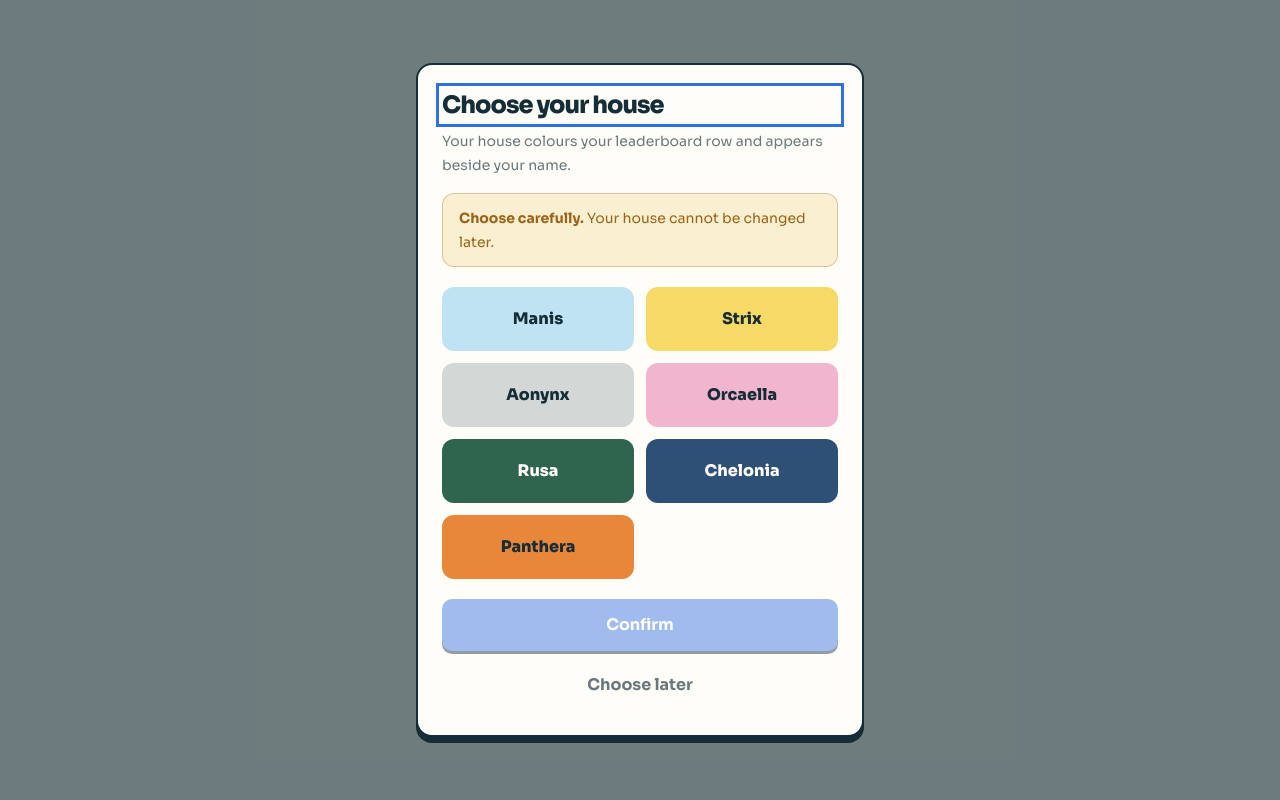
Test: house prompt modal › announces failures and race outcomes through a live region
Click the button "Rusa": click(538, 471) left=442, top=439, right=634, bottom=503
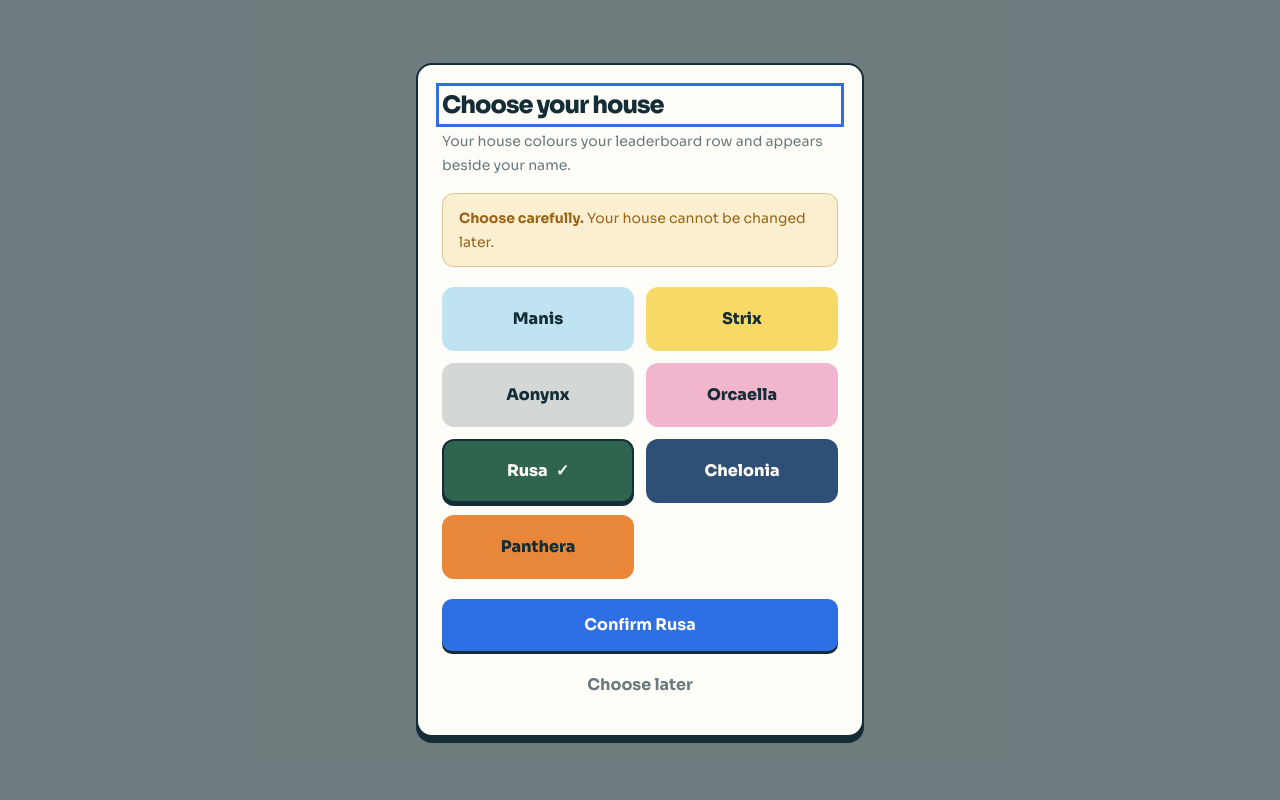
Click the button with test id "house-confirm": click(640, 625) left=442, top=599, right=838, bottom=651
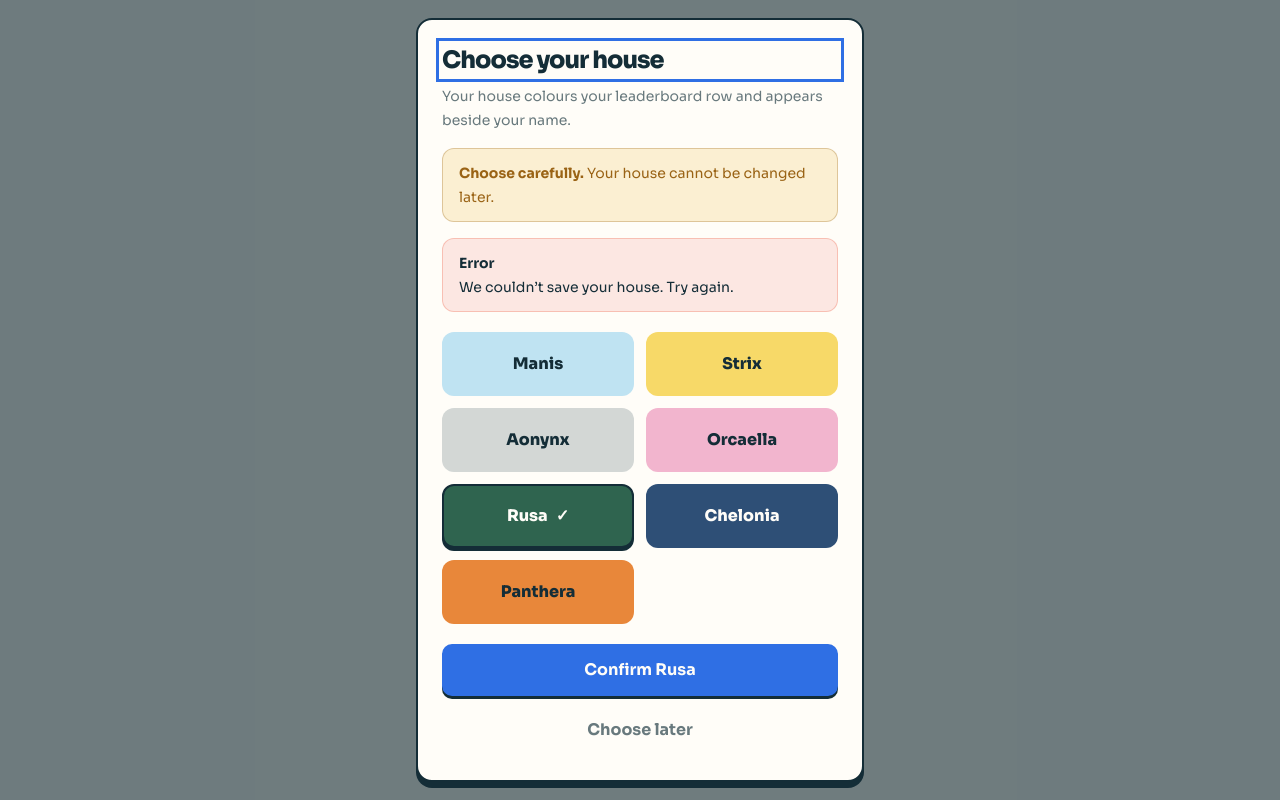
expect the element showing "Error We couldn’t save your house. Try again." is shown: met, box left=442, top=238, right=838, bottom=312
